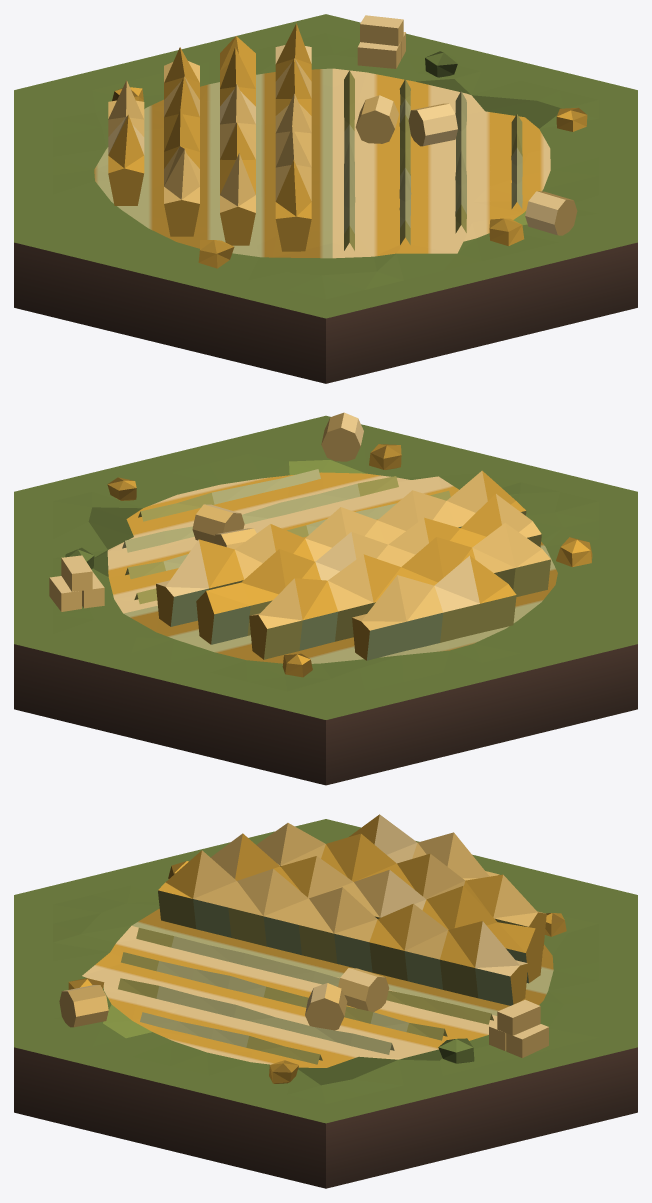
Rendered from SM_Tile_Cornfield_B.fbx.
The picture shows the model from 3 angles, top to bottom: view 1: azimuth 30°, elevation 25°; view 2: azimuth 150°, elevation 25°; view 3: azimuth 270°, elevation 25°; orthographic projection.
Parts seen in each view (by area): view 1: SM_Tile_Cornfield_B; view 2: SM_Tile_Cornfield_B; view 3: SM_Tile_Cornfield_B.
Boxes of the visible parts, left/top/right/bottom form: SM_Tile_Cornfield_B: left=14, top=14, right=637, bottom=383; SM_Tile_Cornfield_B: left=14, top=412, right=637, bottom=785; SM_Tile_Cornfield_B: left=14, top=814, right=637, bottom=1188.
Bounding box in the file's own units: 20 × 4.31 × 17.32.
